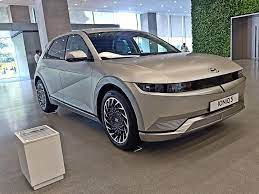Honda Ioniq: (30, 27, 250, 155)
